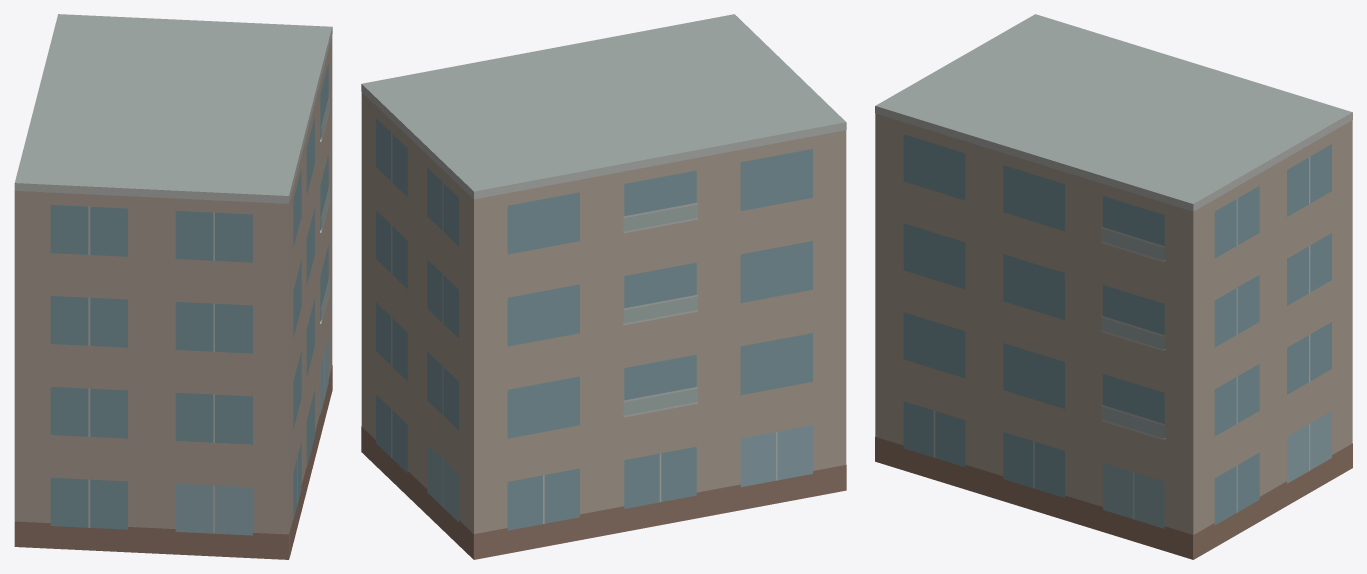
File: survey-upis-32709069.glb
3 renders of one model, left to right at view 1: azimuth 30°, elevation 25°; view 2: azimuth 150°, elevation 25°; view 3: azimuth 270°, elevation 25°, orthographic. The views are drawn at different scales.
Visible parts, largest first — view 1: survey-upis-32709069.tmp; view 2: survey-upis-32709069.tmp; view 3: survey-upis-32709069.tmp.
Boxes of the visible parts, box(x1,y1,x2,y2) form: survey-upis-32709069.tmp: box(14, 14, 332, 559); survey-upis-32709069.tmp: box(361, 14, 846, 559); survey-upis-32709069.tmp: box(875, 14, 1352, 559).
Size of the model in its own units: 13.1 by 11.42 by 13.9.
